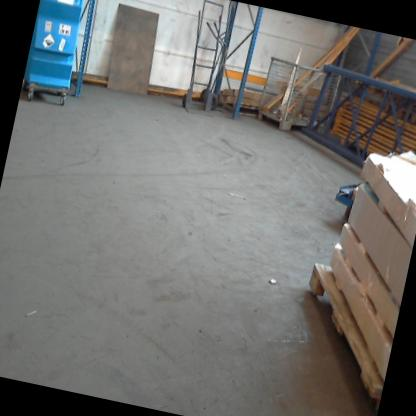pallet: (271, 253, 405, 416)
stillage: (246, 45, 348, 144)
